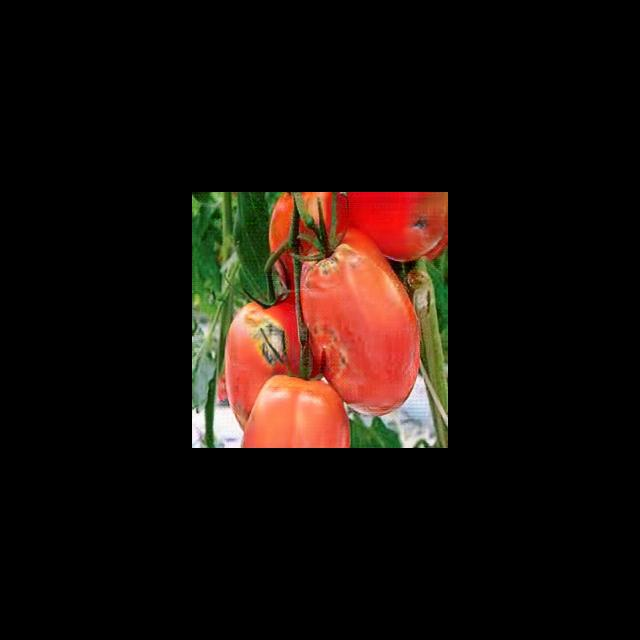tomato: (300, 232, 422, 413), (224, 301, 307, 426), (347, 192, 446, 265)
